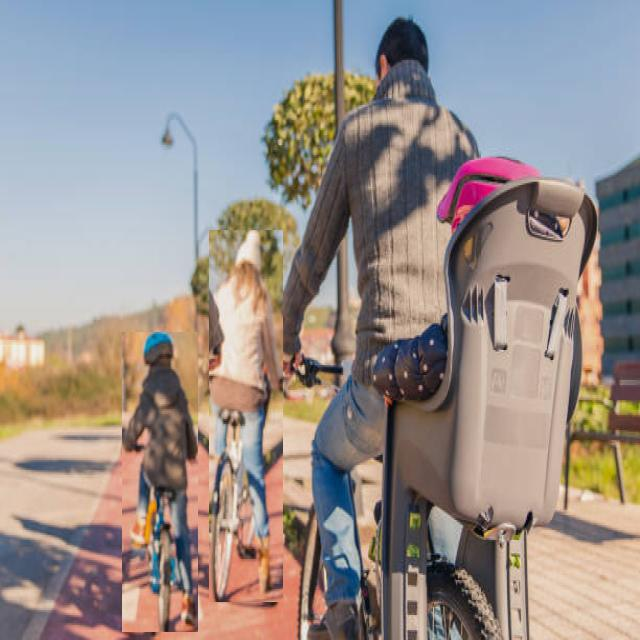bicycle: (270, 18, 599, 640), (210, 231, 283, 602), (122, 332, 198, 632)
